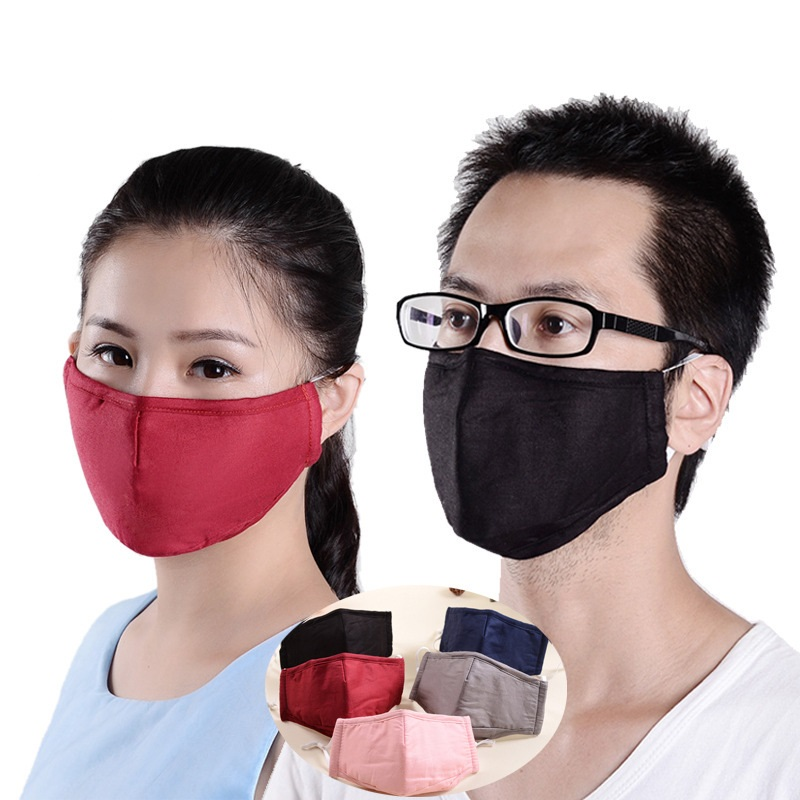face_mask: (427, 171, 679, 544), (70, 230, 300, 548)
